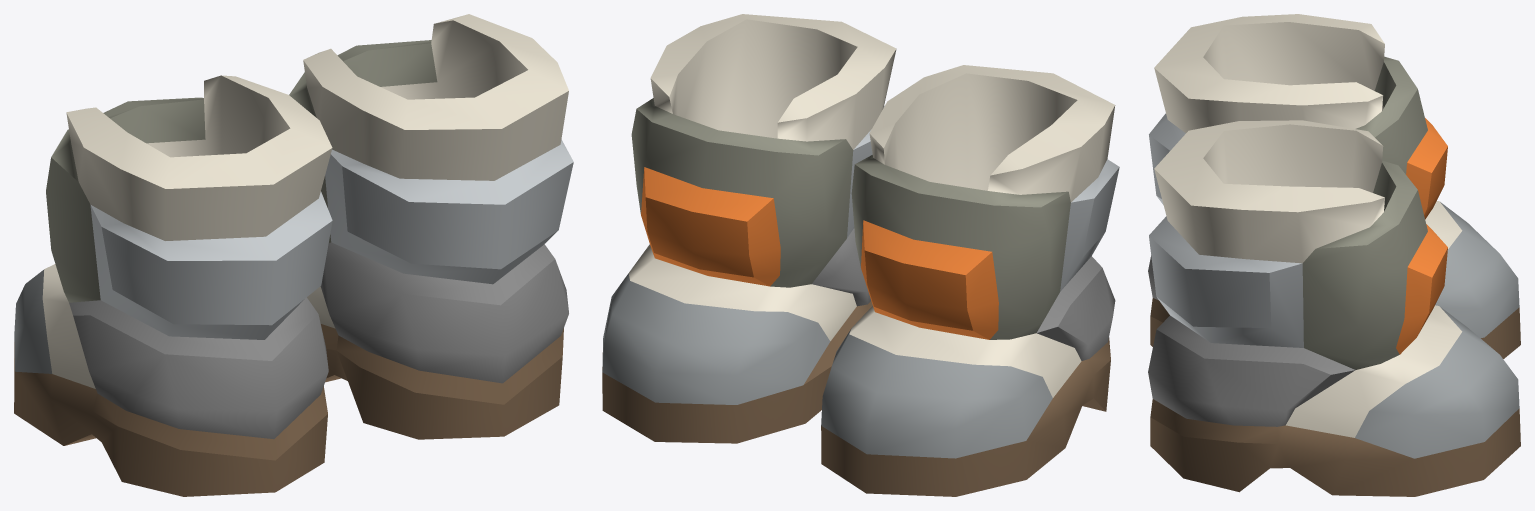
Rendered from Shoes_8.fbx.
3 views of the same model, side by side, from view 1: azimuth 30°, elevation 25°; view 2: azimuth 150°, elevation 25°; view 3: azimuth 270°, elevation 25° (orthographic). The views are drawn at different scales.
Visible parts, largest first — view 1: Shoes_8; view 2: Shoes_8; view 3: Shoes_8.
Boxes of the visible parts, x1=… form: Shoes_8: x1=14, y1=14, x2=573, y2=496; Shoes_8: x1=602, y1=14, x2=1119, y2=496; Shoes_8: x1=1148, y1=14, x2=1520, y2=496.
Bounding box in the file's own units: 40.99 × 27.25 × 31.61.
